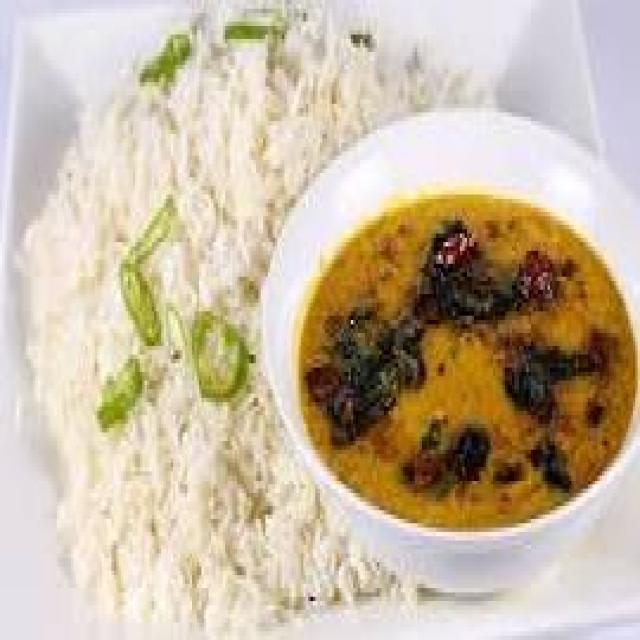Wet: (24, 191, 636, 623)
